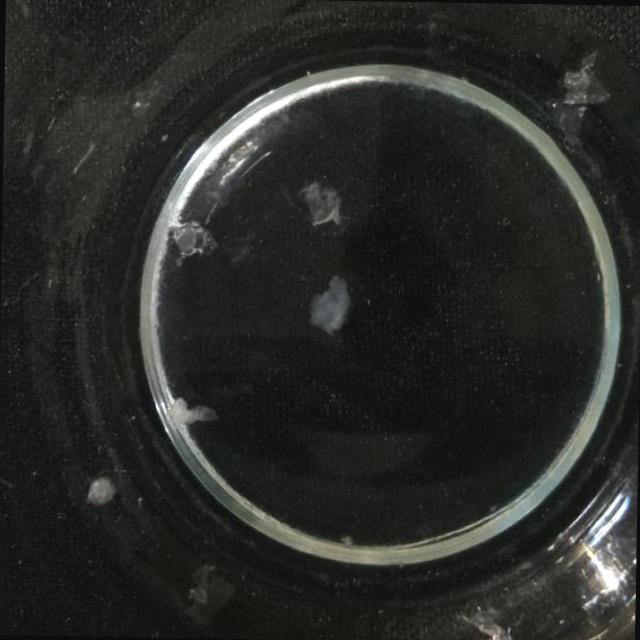fiber: (557, 41, 628, 130), (158, 368, 213, 441), (309, 270, 352, 340), (299, 172, 345, 236), (158, 208, 208, 266), (83, 464, 121, 509)
